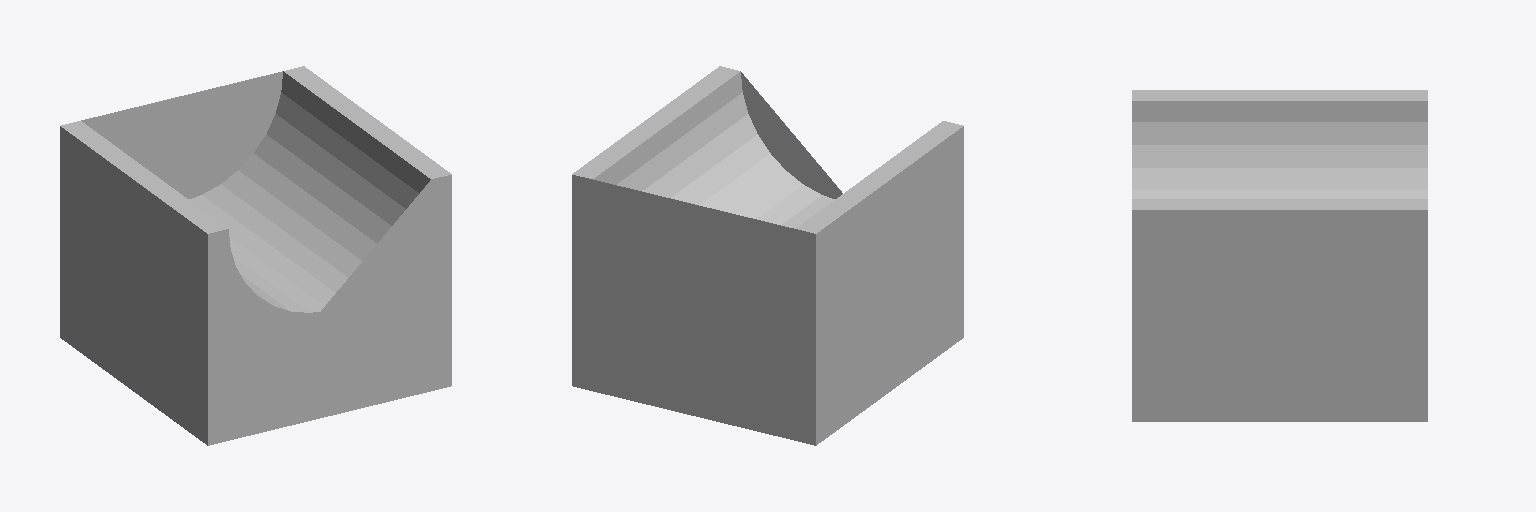
Rendered from pipeTest.obj.
3 views of the same model, side by side, from view 1: azimuth 30°, elevation 25°; view 2: azimuth 150°, elevation 25°; view 3: azimuth 270°, elevation 25° (orthographic).
Parts seen in each view (by area): view 1: pCube2; view 2: pCube2; view 3: pCube2.
Part boxes in pixels (bbox=[...]): pCube2: bbox=[60, 66, 451, 445]; pCube2: bbox=[572, 66, 963, 445]; pCube2: bbox=[1132, 90, 1427, 421].
Bounding box in the file's own units: 1.26 × 1.05 × 1.33.